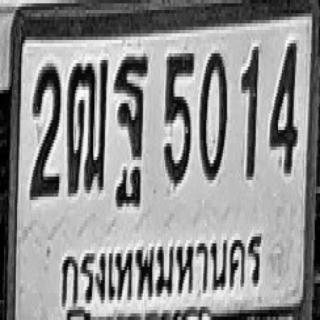A16: (114, 53, 148, 187)
A18: (67, 57, 108, 193)
N00: (199, 50, 227, 180)
N01: (241, 45, 259, 178)
N02: (30, 62, 60, 198)
N04: (270, 40, 297, 173)
N05: (164, 52, 194, 185)
P04: (58, 230, 264, 312)
